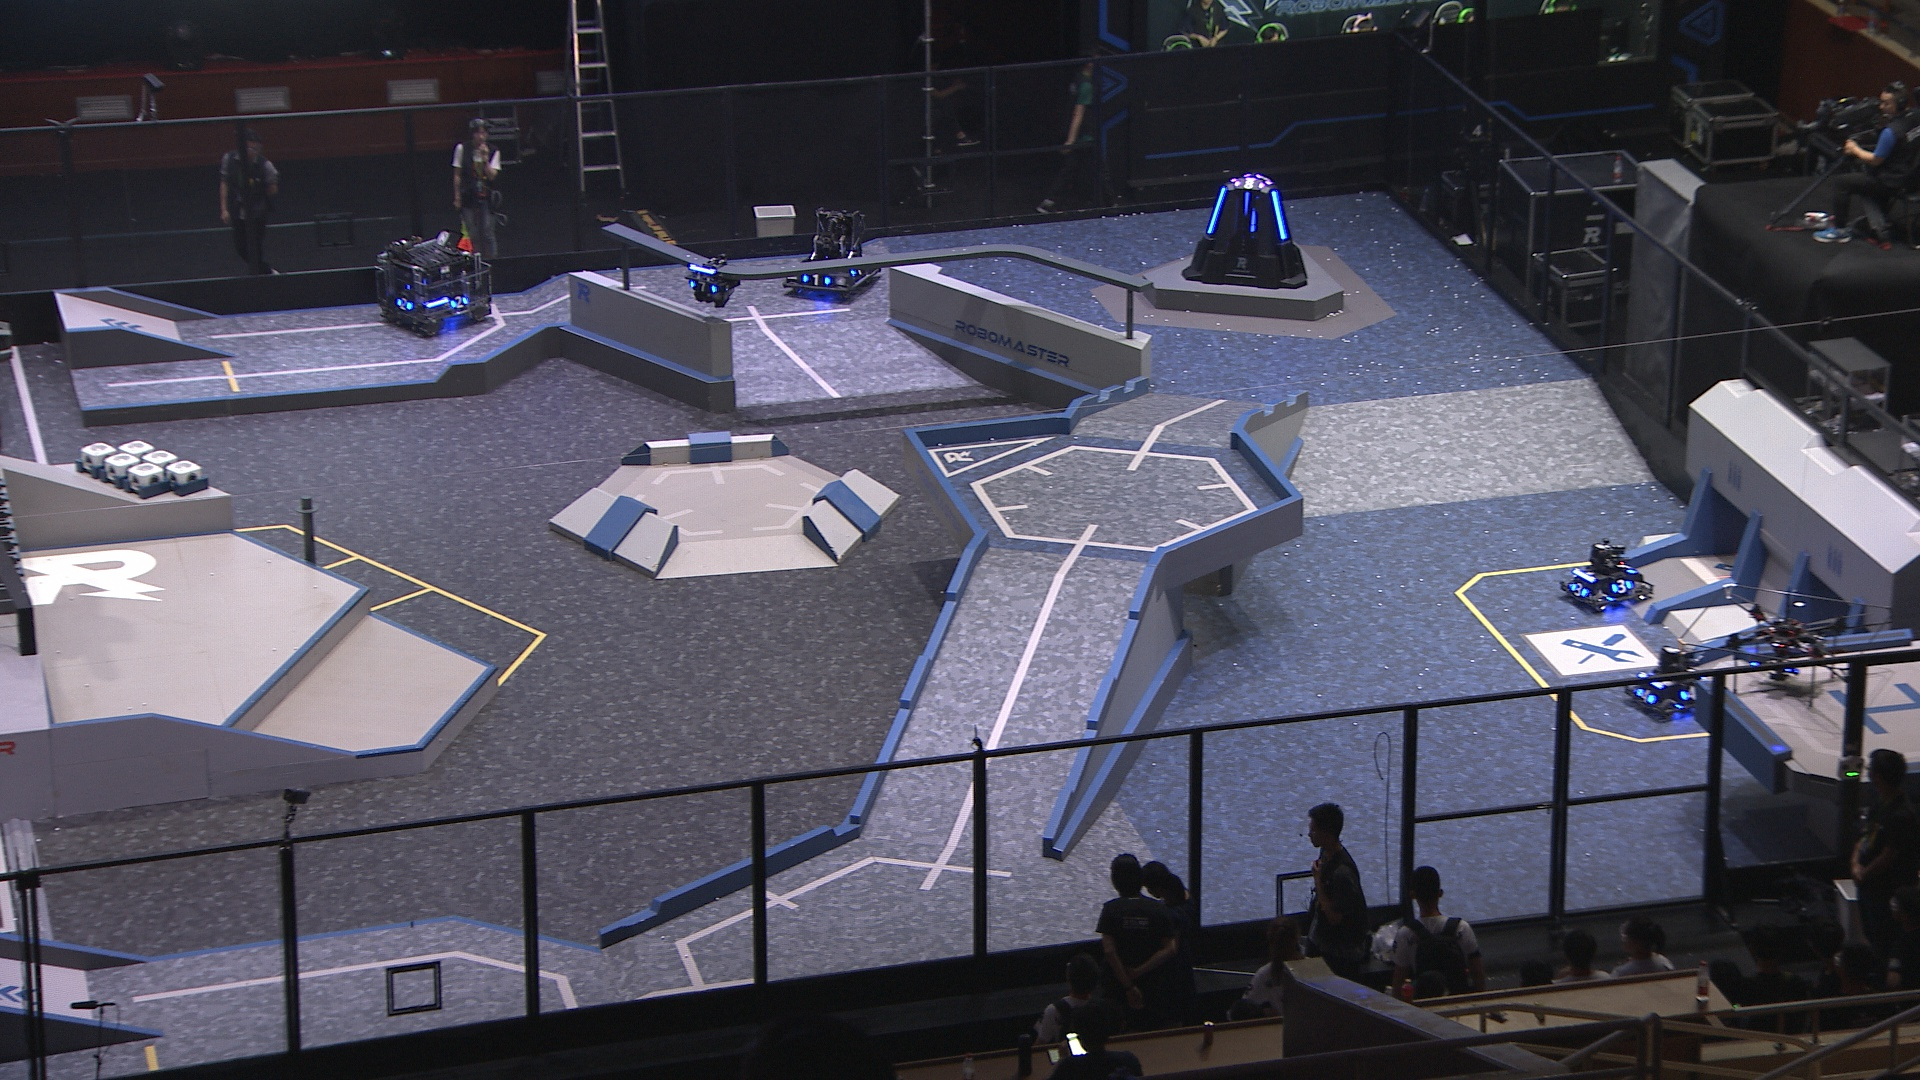armor: (1207, 182, 1228, 237), (1269, 191, 1288, 243), (800, 272, 831, 289), (688, 278, 716, 295), (1615, 556, 1640, 575), (447, 291, 468, 310), (1571, 579, 1589, 599), (1636, 688, 1656, 705), (394, 295, 413, 313), (1611, 579, 1633, 593), (1681, 684, 1698, 702), (849, 262, 866, 278), (1242, 191, 1251, 216)
base: (1179, 166, 1311, 294)
car: (371, 233, 496, 338), (781, 204, 884, 299), (1556, 535, 1654, 612), (1625, 647, 1712, 723)
ignore: (1236, 178, 1269, 189)
watcher: (686, 251, 741, 309)
